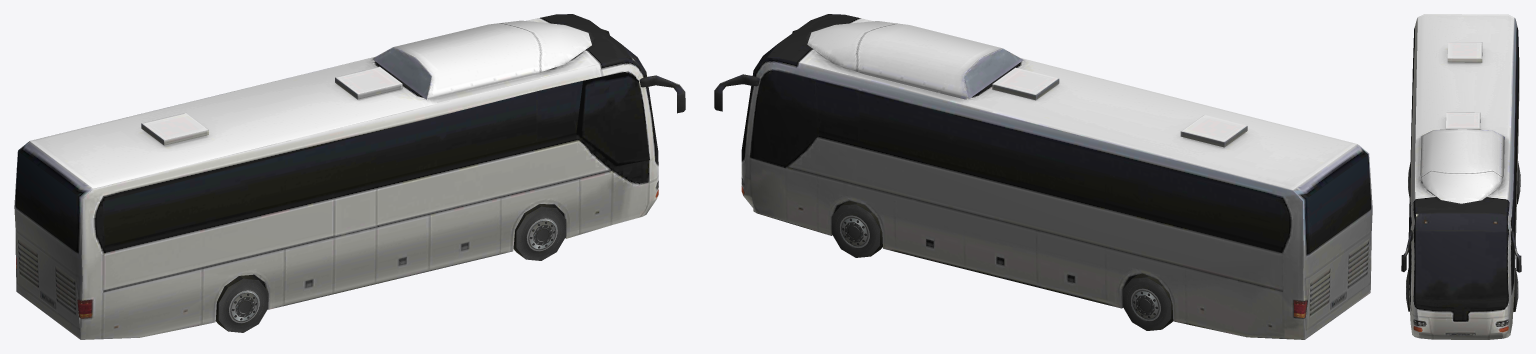
The model's file is Big_Bus__2__1.FBX.
3 views of the same model, side by side, from view 1: azimuth 30°, elevation 25°; view 2: azimuth 150°, elevation 25°; view 3: azimuth 270°, elevation 25° (orthographic). The views are drawn at different scales.
Parts seen in each view (by area): view 1: Big_Bus__2__1; view 2: Big_Bus__2__1; view 3: Big_Bus__2__1.
Boxes of the visible parts, x1,y1,x2,y2 form: Big_Bus__2__1: (14, 14, 685, 339); Big_Bus__2__1: (714, 14, 1372, 339); Big_Bus__2__1: (1401, 14, 1521, 339).
Size of the model in its own units: 127 by 40.35 by 29.48.
